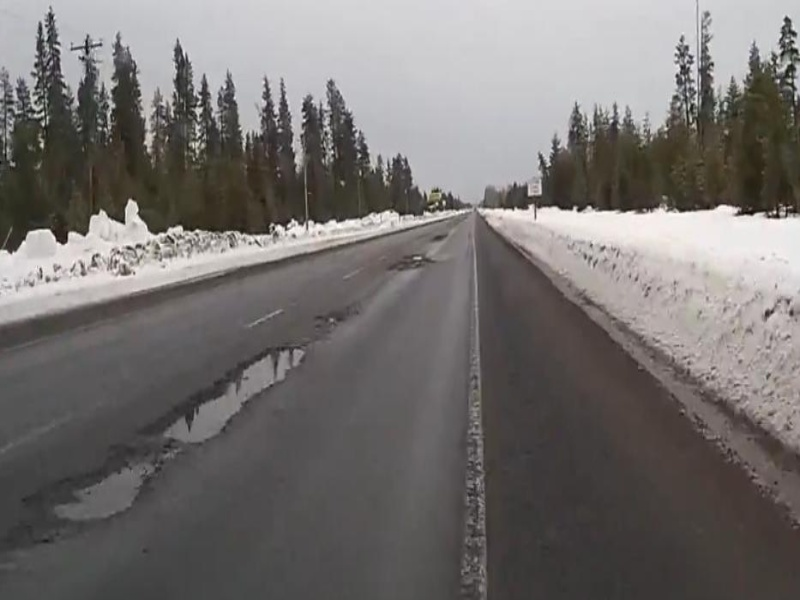pothole: (53, 448, 166, 527), (153, 386, 257, 448), (229, 340, 313, 387)
